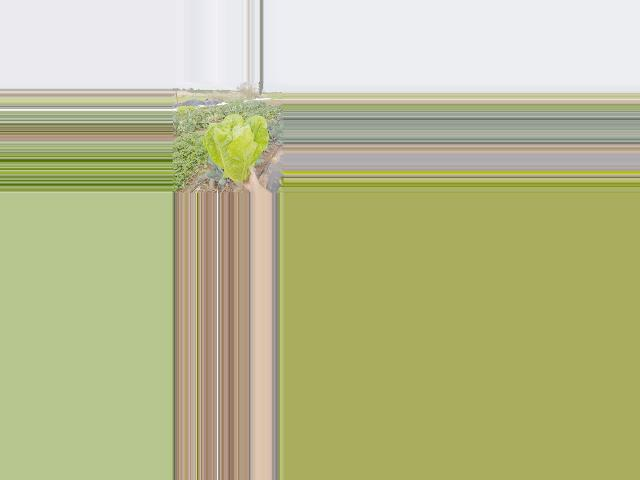lettuce: (201, 113, 272, 187)
